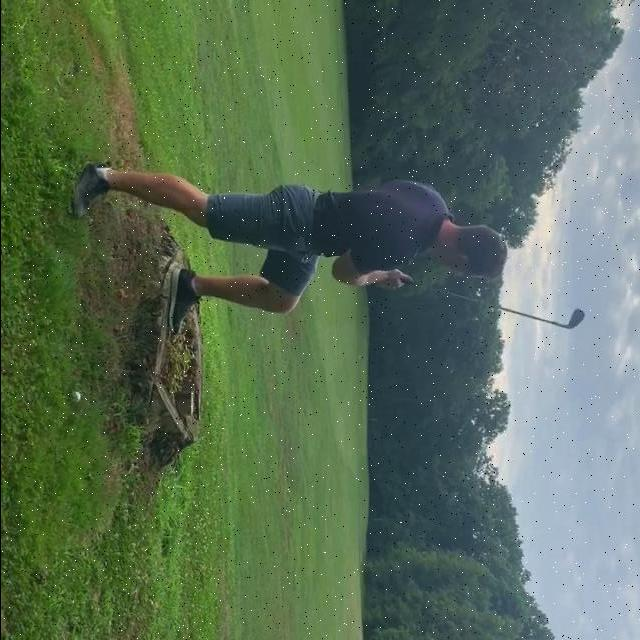ClubHandle: (379, 272, 588, 333)
ClubHead: (566, 308, 585, 330)
GolfBall: (71, 390, 80, 403)
